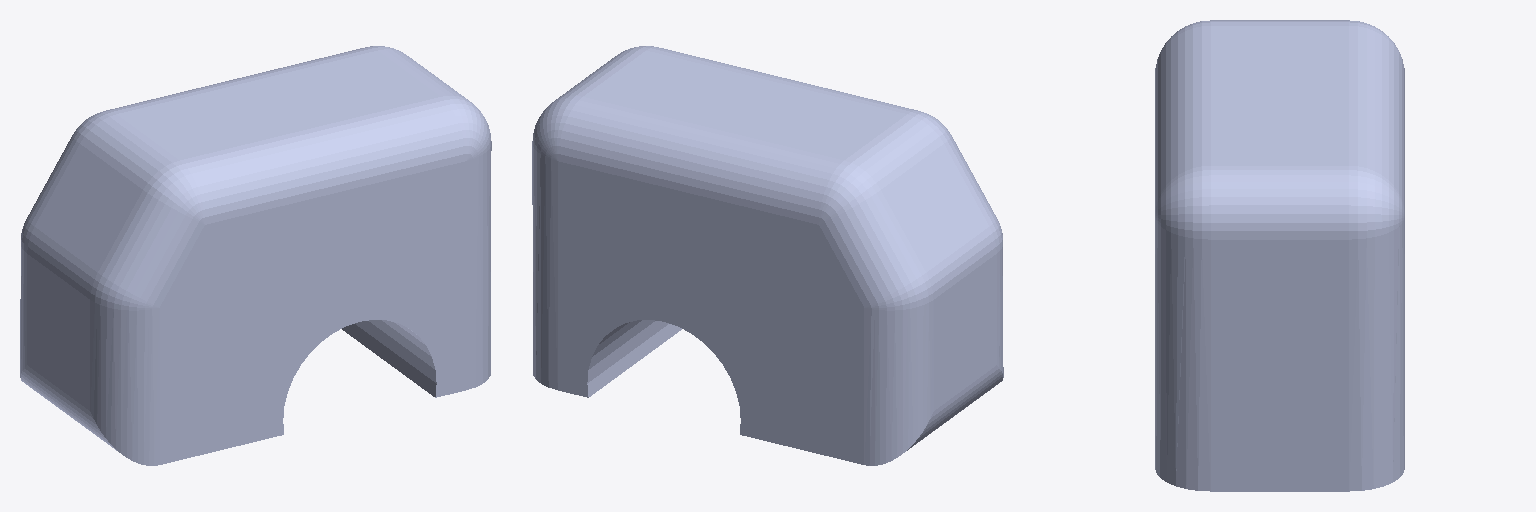
robot.urdf — zumi:
<?xml version="1.0" encoding="utf-8"?>
<!-- This URDF was automatically created by SolidWorks to URDF Exporter! Originally created by [author] ([email redacted]) 
     Commit Version: 1.5.1-0-g916b5db  Build Version: 1.5.7152.31018
     For more information, please see http://wiki.ros.org/sw_urdf_exporter -->
<robot
  name="zumi">
  <link
    name="zumi">
    <inertial>
      <origin
        xyz="0.030147 -0.0225 -0.0030028"
        rpy="0 0 0" />
      <mass
        value="0.19881" />
      <inertia
        ixx="8.2184E-05"
        ixy="-8.25079999993603E-11"
        ixz="-1.0448E-05"
        iyy="0.00018362"
        iyz="-9.27610000115848E-12"
        izz="0.0001647" />
    </inertial>
    <visual>
      <origin
        xyz="0 0 0"
        rpy="1.5707963267949 0 0" />
      <geometry>
        <mesh
          filename="package://zumi/meshes/zumi.STL" />
      </geometry>
      <material
        name="">
        <color
          rgba="0.79608 0.82353 0.93725 1" />
        <texture
          filename="package://zumi/textures/" />
      </material>
    </visual>
    <collision>
      <origin
        xyz="0 0 0"
        rpy="1.5707963267949 0 0" />
      <geometry>
        <mesh
          filename="package://zumi/meshes/zumi.STL" />
      </geometry>
    </collision>
  </link>
</robot>

--- Facts derived from the render (not from the file) ---
The picture shows the robot from 3 angles, left to right: view 1: azimuth 30°, elevation 25°; view 2: azimuth 150°, elevation 25°; view 3: azimuth 270°, elevation 25°; orthographic projection.
Model zumi with 1 links and 0 joints (none), rooted at zumi, posed all joints at 0.
Visible links, largest first — view 1: zumi; view 2: zumi; view 3: zumi.
Link boxes in pixels (x1,y1,x2,y2): zumi: [20, 46, 491, 465]; zumi: [532, 46, 1003, 465]; zumi: [1155, 20, 1404, 491].
Bounding box of the posed robot: 0.09 × 0.045 × 0.06 m (x, y, z).
1 mesh visuals loaded from 1 distinct referenced files (1 binary STL).